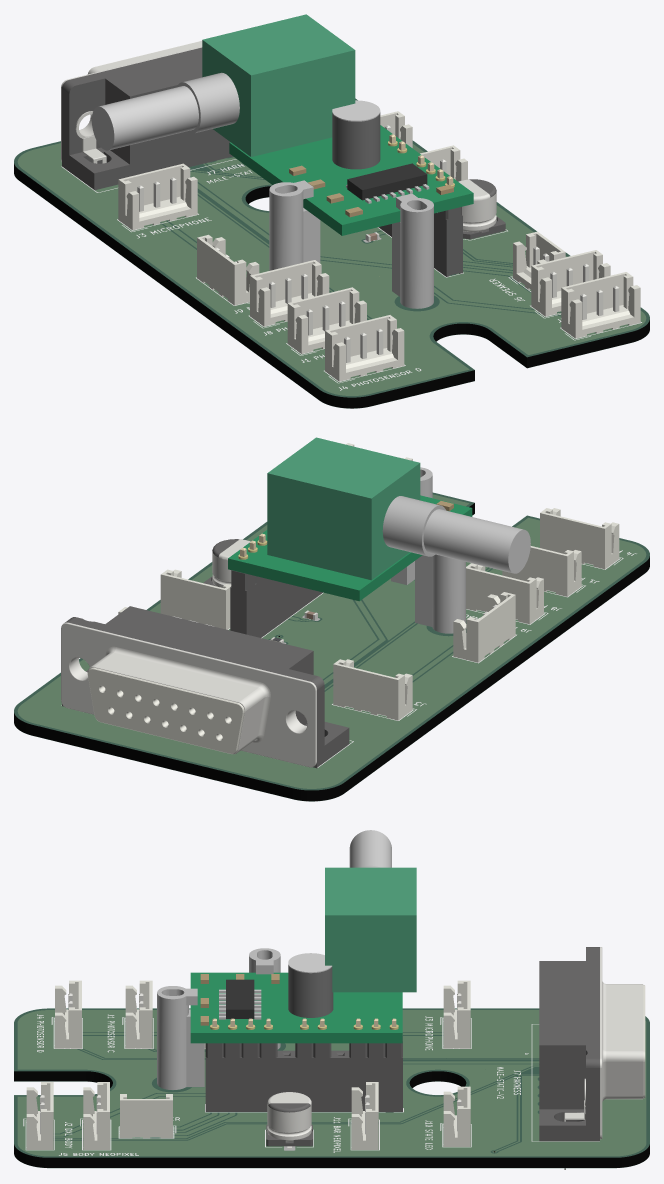
Rendered from male-static-v2.glb.
3 renders of one model, top to bottom at view 1: azimuth 30°, elevation 25°; view 2: azimuth 150°, elevation 25°; view 3: azimuth 270°, elevation 25°, orthographic. The views are drawn at different scales.
Visible parts, largest first — view 1: male-static-v2_visual_layers_4, M1.001, male-static-v2_visual_layers_2, J7, male-static-v2_visual_layers_1, H2, J3, J2, J4, H1, J1, J8 (+8 smaller); view 2: male-static-v2_visual_layers_4, J7, M1.001, male-static-v2_visual_layers_2, male-static-v2_visual_layers_1, H1, J3, M1, J4, J11, J9, J8 (+5 smaller); view 3: male-static-v2_visual_layers_4, male-static-v2_visual_layers_2, M1.001, J7, male-static-v2_visual_layers_1, M1, H2, male-static-v2_visual_layers_7, C1, J6, J1, J3 (+10 smaller).
Boxes of the visible parts, x1,y1,x2,y2 form: male-static-v2_visual_layers_4: (14, 98, 649, 397); M1.001: (91, 14, 473, 235); male-static-v2_visual_layers_2: (18, 143, 645, 395); J7: (61, 41, 232, 190); male-static-v2_visual_layers_1: (14, 141, 649, 408); H2: (392, 193, 433, 308); J3: (118, 163, 197, 230); J2: (561, 272, 640, 338); J4: (325, 315, 404, 381); H1: (269, 180, 320, 270); J1: (287, 287, 366, 353); J8: (250, 260, 329, 326); male-static-v2_visual_layers_4: (14, 492, 649, 790); J7: (61, 606, 349, 768); M1.001: (228, 437, 530, 601); male-static-v2_visual_layers_2: (18, 495, 645, 788); male-static-v2_visual_layers_1: (14, 493, 649, 801); H1: (415, 554, 465, 633); J3: (333, 659, 412, 720); M1: (230, 578, 322, 637); J4: (540, 508, 619, 569); J11: (160, 569, 231, 629); J9: (453, 592, 515, 662); J8: (466, 563, 543, 624); male-static-v2_visual_layers_4: (14, 1008, 649, 1157); male-static-v2_visual_layers_2: (18, 1010, 645, 1155); M1.001: (190, 830, 416, 1043); J7: (539, 947, 645, 1169); male-static-v2_visual_layers_1: (14, 1009, 649, 1167); M1: (205, 1050, 402, 1112); H2: (157, 986, 204, 1089); male-static-v2_visual_layers_7: (23, 1014, 599, 1155); C1: (266, 1092, 312, 1148); J6: (120, 1094, 172, 1138); J1: (125, 980, 152, 1048); J3: (443, 980, 470, 1048).
Bounding box in the file's own units: 0.057 × 0.033 × 0.09.
